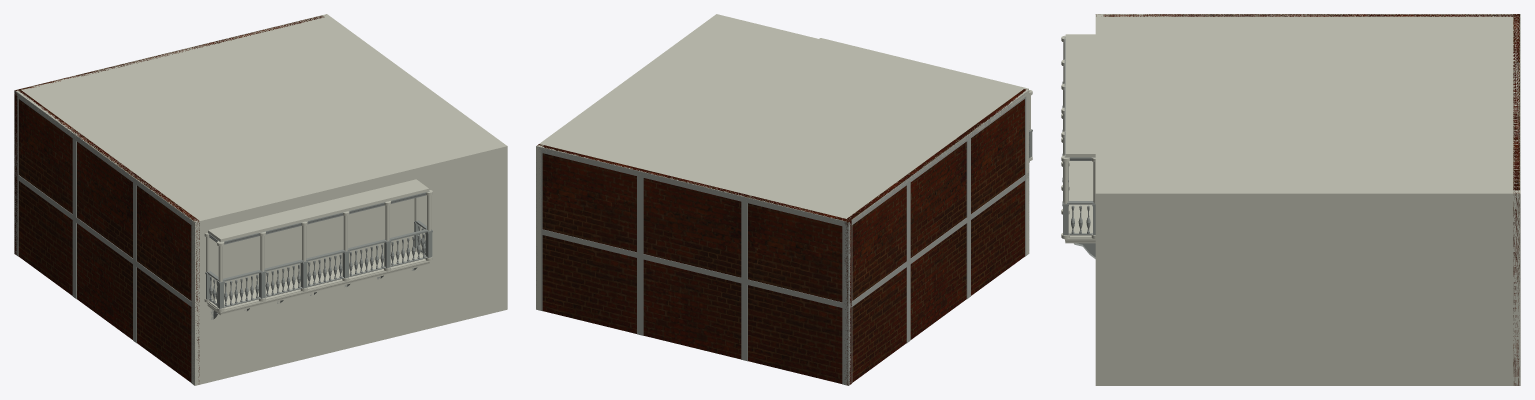
The model's file is building.glb.
3 views of the same model, side by side, from view 1: azimuth 30°, elevation 25°; view 2: azimuth 150°, elevation 25°; view 3: azimuth 270°, elevation 25° (orthographic). The views are drawn at different scales.
Visible parts, largest first — view 1: roof/house:0/roof_slab#0001, house:0/edge0/z0/house:0/edge0/z0/wall_0_0, house:0/edge3/z0/house:0/edge3/z0/wall_0_0, balcony/sample/balcony_cover#0001, balcony/sample/balcony_platform#0001, house:0/edge2/z0/house:0/edge2/z0/wall_0_0, house:0/edge3/z0/house:0/edge3/z0/beam_0_0, house:0/edge1/z0/house:0/edge1/z0/wall_0_0, house:0/edge3/z0/house:0/edge3/z0/beam_1_0, balcony/sample/balcony_fascia#0001, balcony/sample/balcony_handrail#0001, balcony/sample/balcony_cover_cornice#0001; view 2: roof/house:0/roof_slab#0001, house:0/edge2/z0/house:0/edge2/z0/wall_0_0, house:0/edge3/z0/house:0/edge3/z0/wall_0_0, house:0/edge1/z0/house:0/edge1/z0/wall_0_0, house:0/edge2/z0/house:0/edge2/z0/beam_1_0, house:0/edge2/z0/house:0/edge2/z0/beam_0_0, house:0/edge0/z0/house:0/edge0/z0/wall_0_0, house:0/edge3/z0/house:0/edge3/z0/beam_0_0, house:0/edge3/z0/house:0/edge3/z0/beam_1_0, house:0/edge2/z0/house:0/edge2/z0/column_1_0, house:0/edge2/z0/house:0/edge2/z0/column_1_1, house:0/edge2/z0/house:0/edge2/z0/column_2_0 (+4 smaller); view 3: house:0/edge1/z0/house:0/edge1/z0/wall_0_0, roof/house:0/roof_slab#0001, balcony/sample/balcony_cover#0001, house:0/edge0/z0/house:0/edge0/z0/wall_0_0, house:0/edge2/z0/house:0/edge2/z0/wall_0_0, balcony/sample/balcony_platform#0001, house:0/edge3/z0/house:0/edge3/z0/wall_0_0.
Boxes of the visible parts, box(x1,y1,x2,y2) form: roof/house:0/roof_slab#0001: box(15, 15, 504, 225); house:0/edge0/z0/house:0/edge0/z0/wall_0_0: box(192, 144, 507, 385); house:0/edge3/z0/house:0/edge3/z0/wall_0_0: box(18, 89, 199, 382); balcony/sample/balcony_cover#0001: box(208, 179, 429, 241); balcony/sample/balcony_platform#0001: box(209, 251, 426, 310); house:0/edge2/z0/house:0/edge2/z0/wall_0_0: box(14, 15, 324, 254); house:0/edge3/z0/house:0/edge3/z0/beam_0_0: box(14, 173, 194, 308); house:0/edge1/z0/house:0/edge1/z0/wall_0_0: box(322, 14, 507, 310); house:0/edge3/z0/house:0/edge3/z0/beam_1_0: box(14, 90, 195, 227); balcony/sample/balcony_fascia#0001: box(207, 261, 430, 315); balcony/sample/balcony_handrail#0001: box(207, 220, 431, 281); balcony/sample/balcony_cover_cornice#0001: box(208, 191, 429, 244); roof/house:0/roof_slab#0001: box(538, 15, 1029, 224); house:0/edge2/z0/house:0/edge2/z0/wall_0_0: box(537, 144, 851, 384); house:0/edge3/z0/house:0/edge3/z0/wall_0_0: box(844, 89, 1026, 385); house:0/edge1/z0/house:0/edge1/z0/wall_0_0: box(536, 14, 720, 310); house:0/edge2/z0/house:0/edge2/z0/beam_1_0: box(537, 146, 848, 227); house:0/edge2/z0/house:0/edge2/z0/beam_0_0: box(541, 229, 848, 309); house:0/edge0/z0/house:0/edge0/z0/wall_0_0: box(714, 14, 1029, 255); house:0/edge3/z0/house:0/edge3/z0/beam_0_0: box(848, 172, 1029, 309); house:0/edge3/z0/house:0/edge3/z0/beam_1_0: box(848, 90, 1028, 227); house:0/edge2/z0/house:0/edge2/z0/column_1_0: box(842, 308, 848, 385); house:0/edge2/z0/house:0/edge2/z0/column_1_1: box(842, 226, 848, 303); house:0/edge2/z0/house:0/edge2/z0/column_2_0: box(637, 176, 643, 253); house:0/edge1/z0/house:0/edge1/z0/wall_0_0: box(1095, 190, 1520, 385); roof/house:0/roof_slab#0001: box(1095, 14, 1520, 197); balcony/sample/balcony_cover#0001: box(1065, 34, 1095, 157); house:0/edge0/z0/house:0/edge0/z0/wall_0_0: box(1095, 14, 1102, 385); house:0/edge2/z0/house:0/edge2/z0/wall_0_0: box(1513, 14, 1519, 385); balcony/sample/balcony_platform#0001: box(1068, 161, 1093, 238); house:0/edge3/z0/house:0/edge3/z0/wall_0_0: box(1096, 14, 1517, 16).
Size of the model in its own units: 12 by 6 by 12.97.
Materials: 4 (1 with a texture image).
